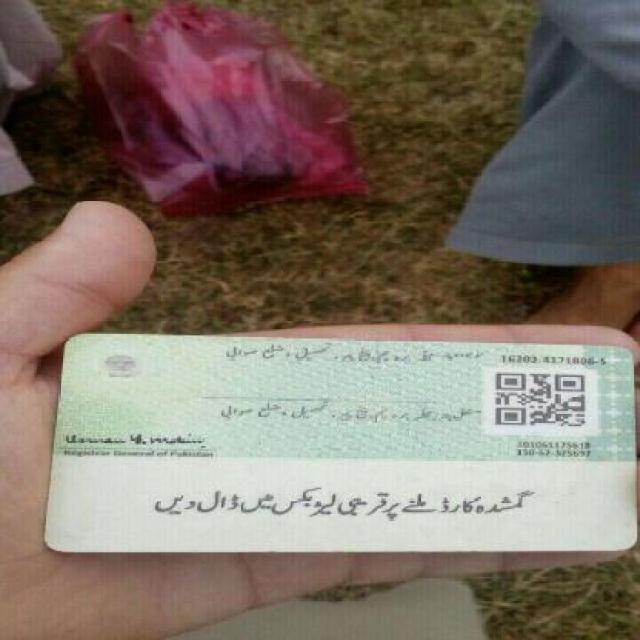Back: (32, 328, 630, 554)
